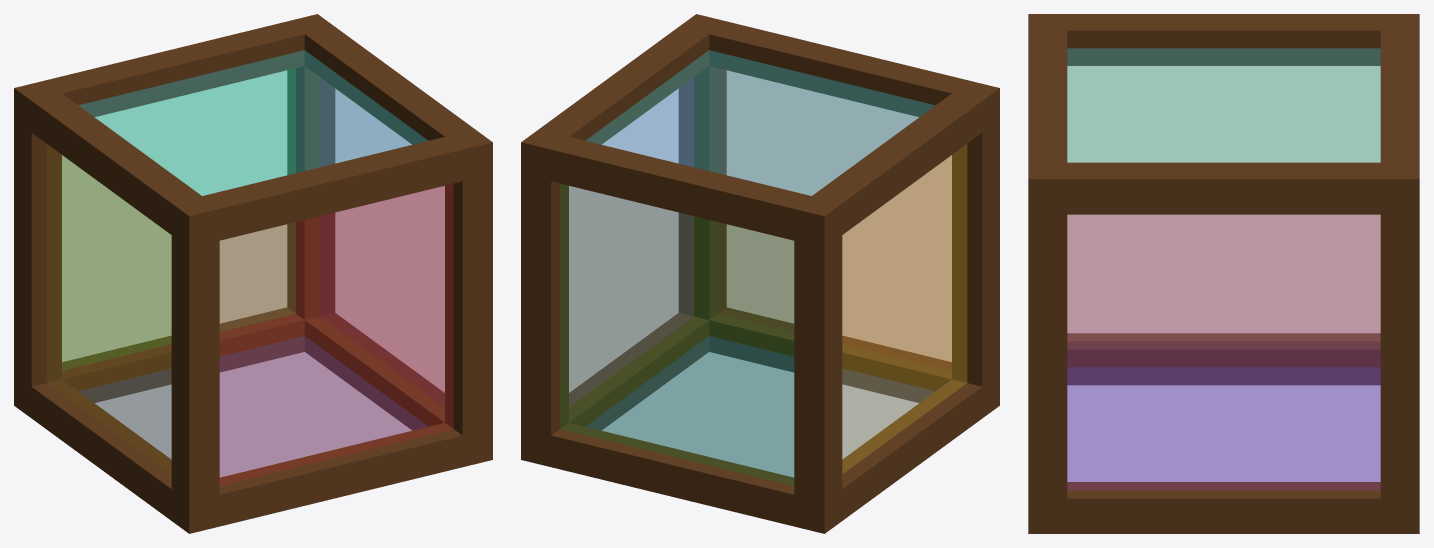
The model's file is glass_box.obj.
3 views of the same model, side by side, from view 1: azimuth 30°, elevation 25°; view 2: azimuth 150°, elevation 25°; view 3: azimuth 270°, elevation 25° (orthographic). The views are drawn at different scales.
Visible parts, largest first — view 1: frame, pane_front, pane_back, pane_left, pane_top, pane_right, pane_bottom; view 2: frame, pane_back, pane_front, pane_left, pane_top, pane_right, pane_bottom; view 3: frame, pane_right, pane_left, pane_top, pane_bottom.
Part boxes in pixels (<box>): frame: <box>14,14,492,533</box>; pane_front: <box>220,184,453,485</box>; pane_back: <box>62,68,295,370</box>; pane_left: <box>47,144,171,473</box>; pane_top: <box>79,50,427,195</box>; pane_right: <box>320,78,444,406</box>; pane_bottom: <box>79,336,427,476</box>; frame: <box>521,14,999,533</box>; pane_back: <box>560,184,793,485</box>; pane_front: <box>718,68,951,370</box>; pane_left: <box>842,144,966,473</box>; pane_top: <box>586,50,934,195</box>; pane_right: <box>569,78,693,406</box>; pane_bottom: <box>586,336,934,476</box>; frame: <box>1028,14,1419,533</box>; pane_right: <box>1067,215,1380,489</box>; pane_left: <box>1067,66,1380,340</box>; pane_top: <box>1067,48,1380,162</box>; pane_bottom: <box>1067,367,1380,481</box>.
Bounding box in the file's own units: 2 × 2 × 2.
